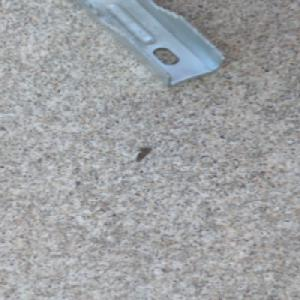ClampPart: (74, 0, 232, 91)
